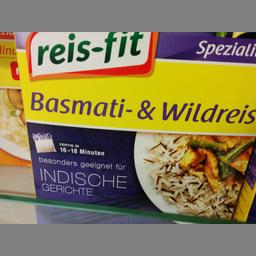rice: (14, 31, 255, 222)
